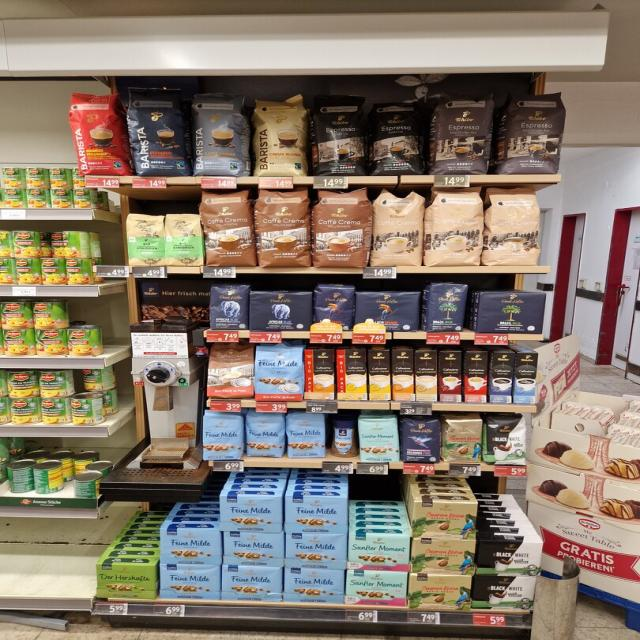AB Bohne: (209, 282, 248, 330)
AB Gemahlen: (249, 292, 314, 332)
Athiopien Gemahlen: (125, 213, 165, 266), (164, 212, 202, 266)
BM Bohne: (426, 281, 469, 333)
BM Gemahlen: (476, 291, 548, 334)
BW Bohne: (486, 415, 528, 465)
BW Gemahlen: (476, 538, 544, 576), (473, 574, 538, 612)
Barista CB: (250, 96, 308, 176)
Barista CC: (191, 90, 250, 177)
Barista Espresso: (126, 86, 191, 178)
Barista Kolumbien: (67, 90, 130, 177)
C Fino Bohne: (400, 417, 442, 464)
CC Mild: (427, 186, 485, 266), (486, 186, 542, 266), (373, 188, 423, 266)
CC Vollmundig: (208, 343, 255, 398)
CC Vollmundig 36 Pads: (255, 188, 312, 268), (312, 188, 368, 269), (200, 190, 256, 266)
Colombia BB Bohne: (444, 418, 484, 463)
Colombia BB Gemahlen: (414, 500, 478, 540), (412, 538, 476, 575), (409, 574, 472, 611)
Espresso Kraftig: (311, 95, 370, 176), (368, 102, 425, 174)
Espresso M Art: (502, 90, 568, 173), (433, 91, 495, 174)
FM 36 Pads: (254, 344, 304, 402)
FM Bohne: (202, 415, 243, 460), (285, 413, 326, 458), (244, 413, 284, 458)
FM Gemahlen: (219, 494, 283, 533), (285, 495, 349, 534), (160, 528, 222, 565), (222, 565, 283, 602), (284, 567, 345, 604), (160, 564, 220, 600), (286, 534, 347, 569), (223, 532, 284, 566)
FM Instant: (330, 418, 358, 458)
Herzhatfe Mundig: (95, 563, 156, 599)
LG Bohne: (315, 283, 356, 332)
LG Gemahlen: (354, 292, 421, 332)
SM Gemahlen: (346, 570, 408, 608), (349, 534, 410, 571), (358, 417, 400, 463)
Simo CCMild: (337, 349, 366, 400)
Simo CCMild bigpack: (368, 350, 391, 400)
Simo CCVollmundig: (304, 349, 334, 399)
Simo CCVollmundig bigpack: (392, 349, 414, 400)
Simo Decaff: (416, 351, 438, 402)
Simo Es Brazil: (465, 351, 487, 403)
Simo Es Caramel: (440, 351, 462, 403)
Simo Es Kraft: (490, 352, 515, 405)
Simo Es Vanilla: (514, 352, 539, 404)
